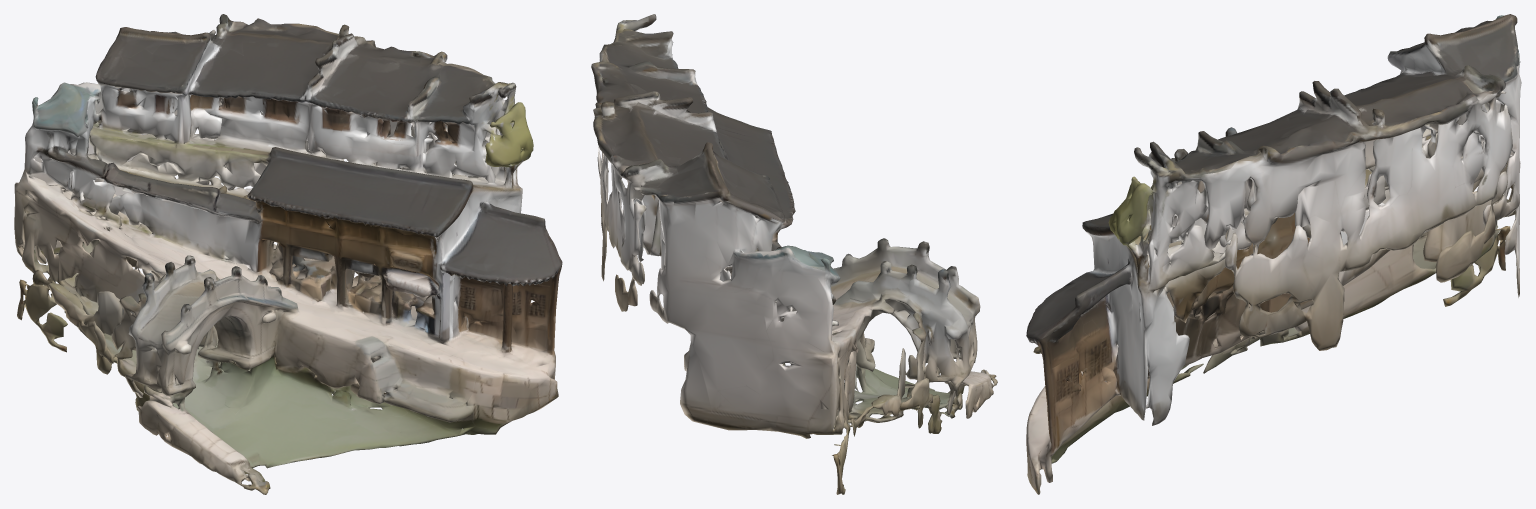
3 views of the same model, side by side, from view 1: azimuth 30°, elevation 25°; view 2: azimuth 150°, elevation 25°; view 3: azimuth 270°, elevation 25° (orthographic). The views are drawn at different scales.
Visible parts, largest first — view 1: material.001; view 2: material.001; view 3: material.001.
Part boxes in pixels (bbox=[...]): material.001: bbox=[14, 14, 562, 494]; material.001: bbox=[591, 14, 997, 494]; material.001: bbox=[1026, 14, 1521, 494].
Bounding box in the file's own units: 0.7902 × 0.6708 × 0.7876.
1 material, 1 textured.
